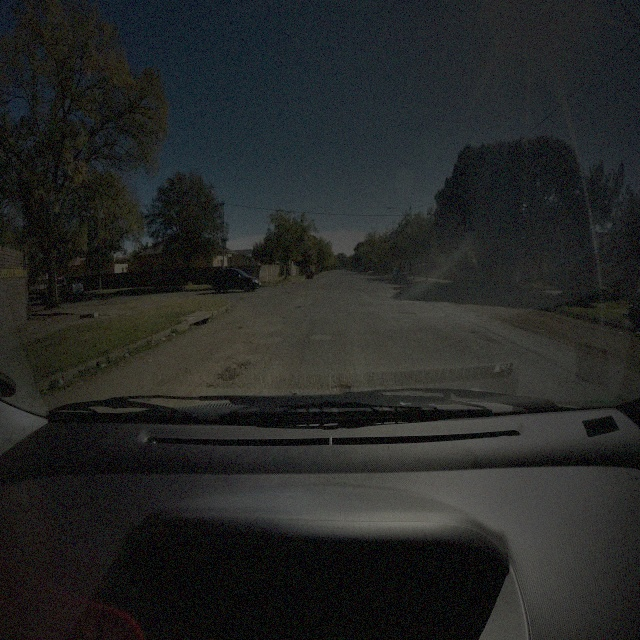pothole: (331, 384, 352, 395), (470, 328, 480, 336)
